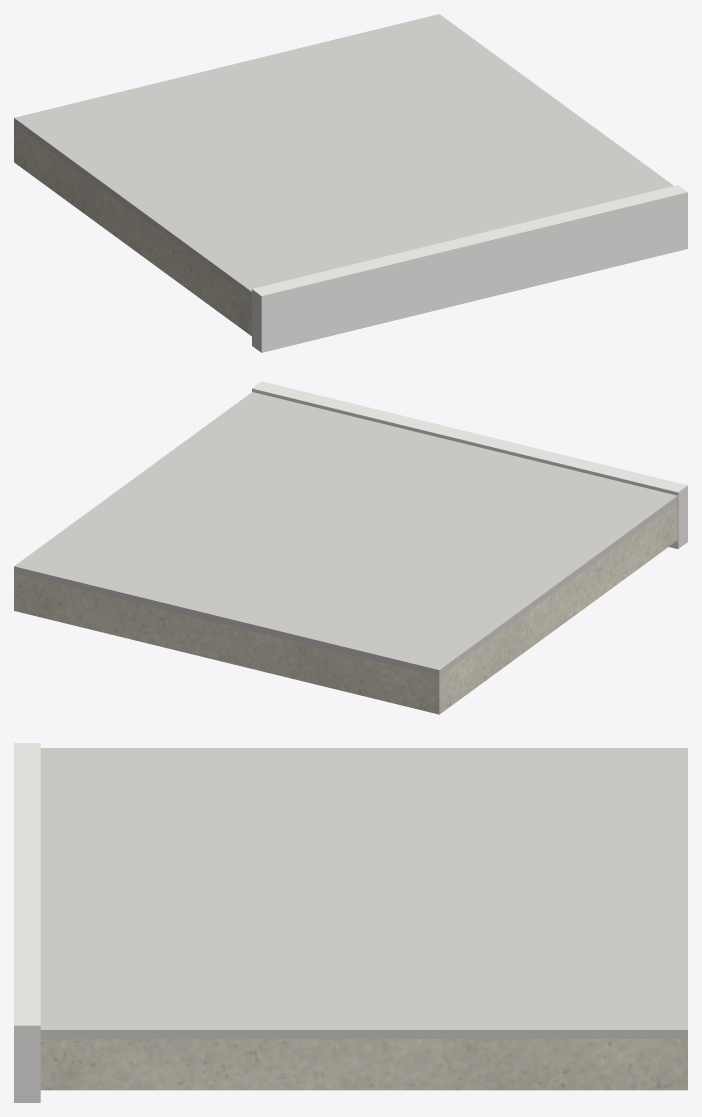
The model's file is gallery_deck.glb.
3 renders of one model, top to bottom at view 1: azimuth 30°, elevation 25°; view 2: azimuth 150°, elevation 25°; view 3: azimuth 270°, elevation 25°, orthographic. The views are drawn at different scales.
Parts seen in each view (by area): view 1: gallery_deck_concrete, gallery_deck_trim, gallery_deck_plaster; view 2: gallery_deck_concrete, gallery_deck_plaster, gallery_deck_trim; view 3: gallery_deck_concrete, gallery_deck_plaster, gallery_deck_trim.
Part boxes in pixels (left/top/right/bottom): gallery_deck_concrete: left=14, top=14, right=673, bottom=298; gallery_deck_trim: left=252, top=185, right=687, bottom=352; gallery_deck_plaster: left=14, top=125, right=251, bottom=336; gallery_deck_concrete: left=14, top=392, right=677, bottom=676; gallery_deck_plaster: left=14, top=503, right=677, bottom=714; gallery_deck_trim: left=252, top=381, right=687, bottom=548; gallery_deck_concrete: left=40, top=748, right=687, bottom=1038; gallery_deck_plaster: left=40, top=1039, right=687, bottom=1090; gallery_deck_trim: left=14, top=743, right=40, bottom=1102.
Bounding box in the file's own units: 2 × 0.255 × 2.02.
Materials: 3 (1 with a texture image).
